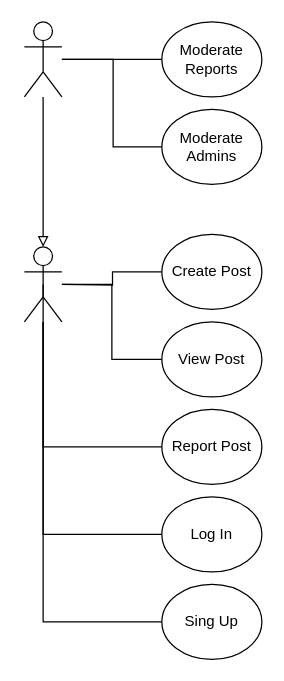
Some shapes in this 284 by 681 pixel diagram are drawn without their labels. Here are the shapes that lost their labels. From the top down, the centre of each, then its label:
At point (42, 59): "Admin".
At point (42, 284): "User".
